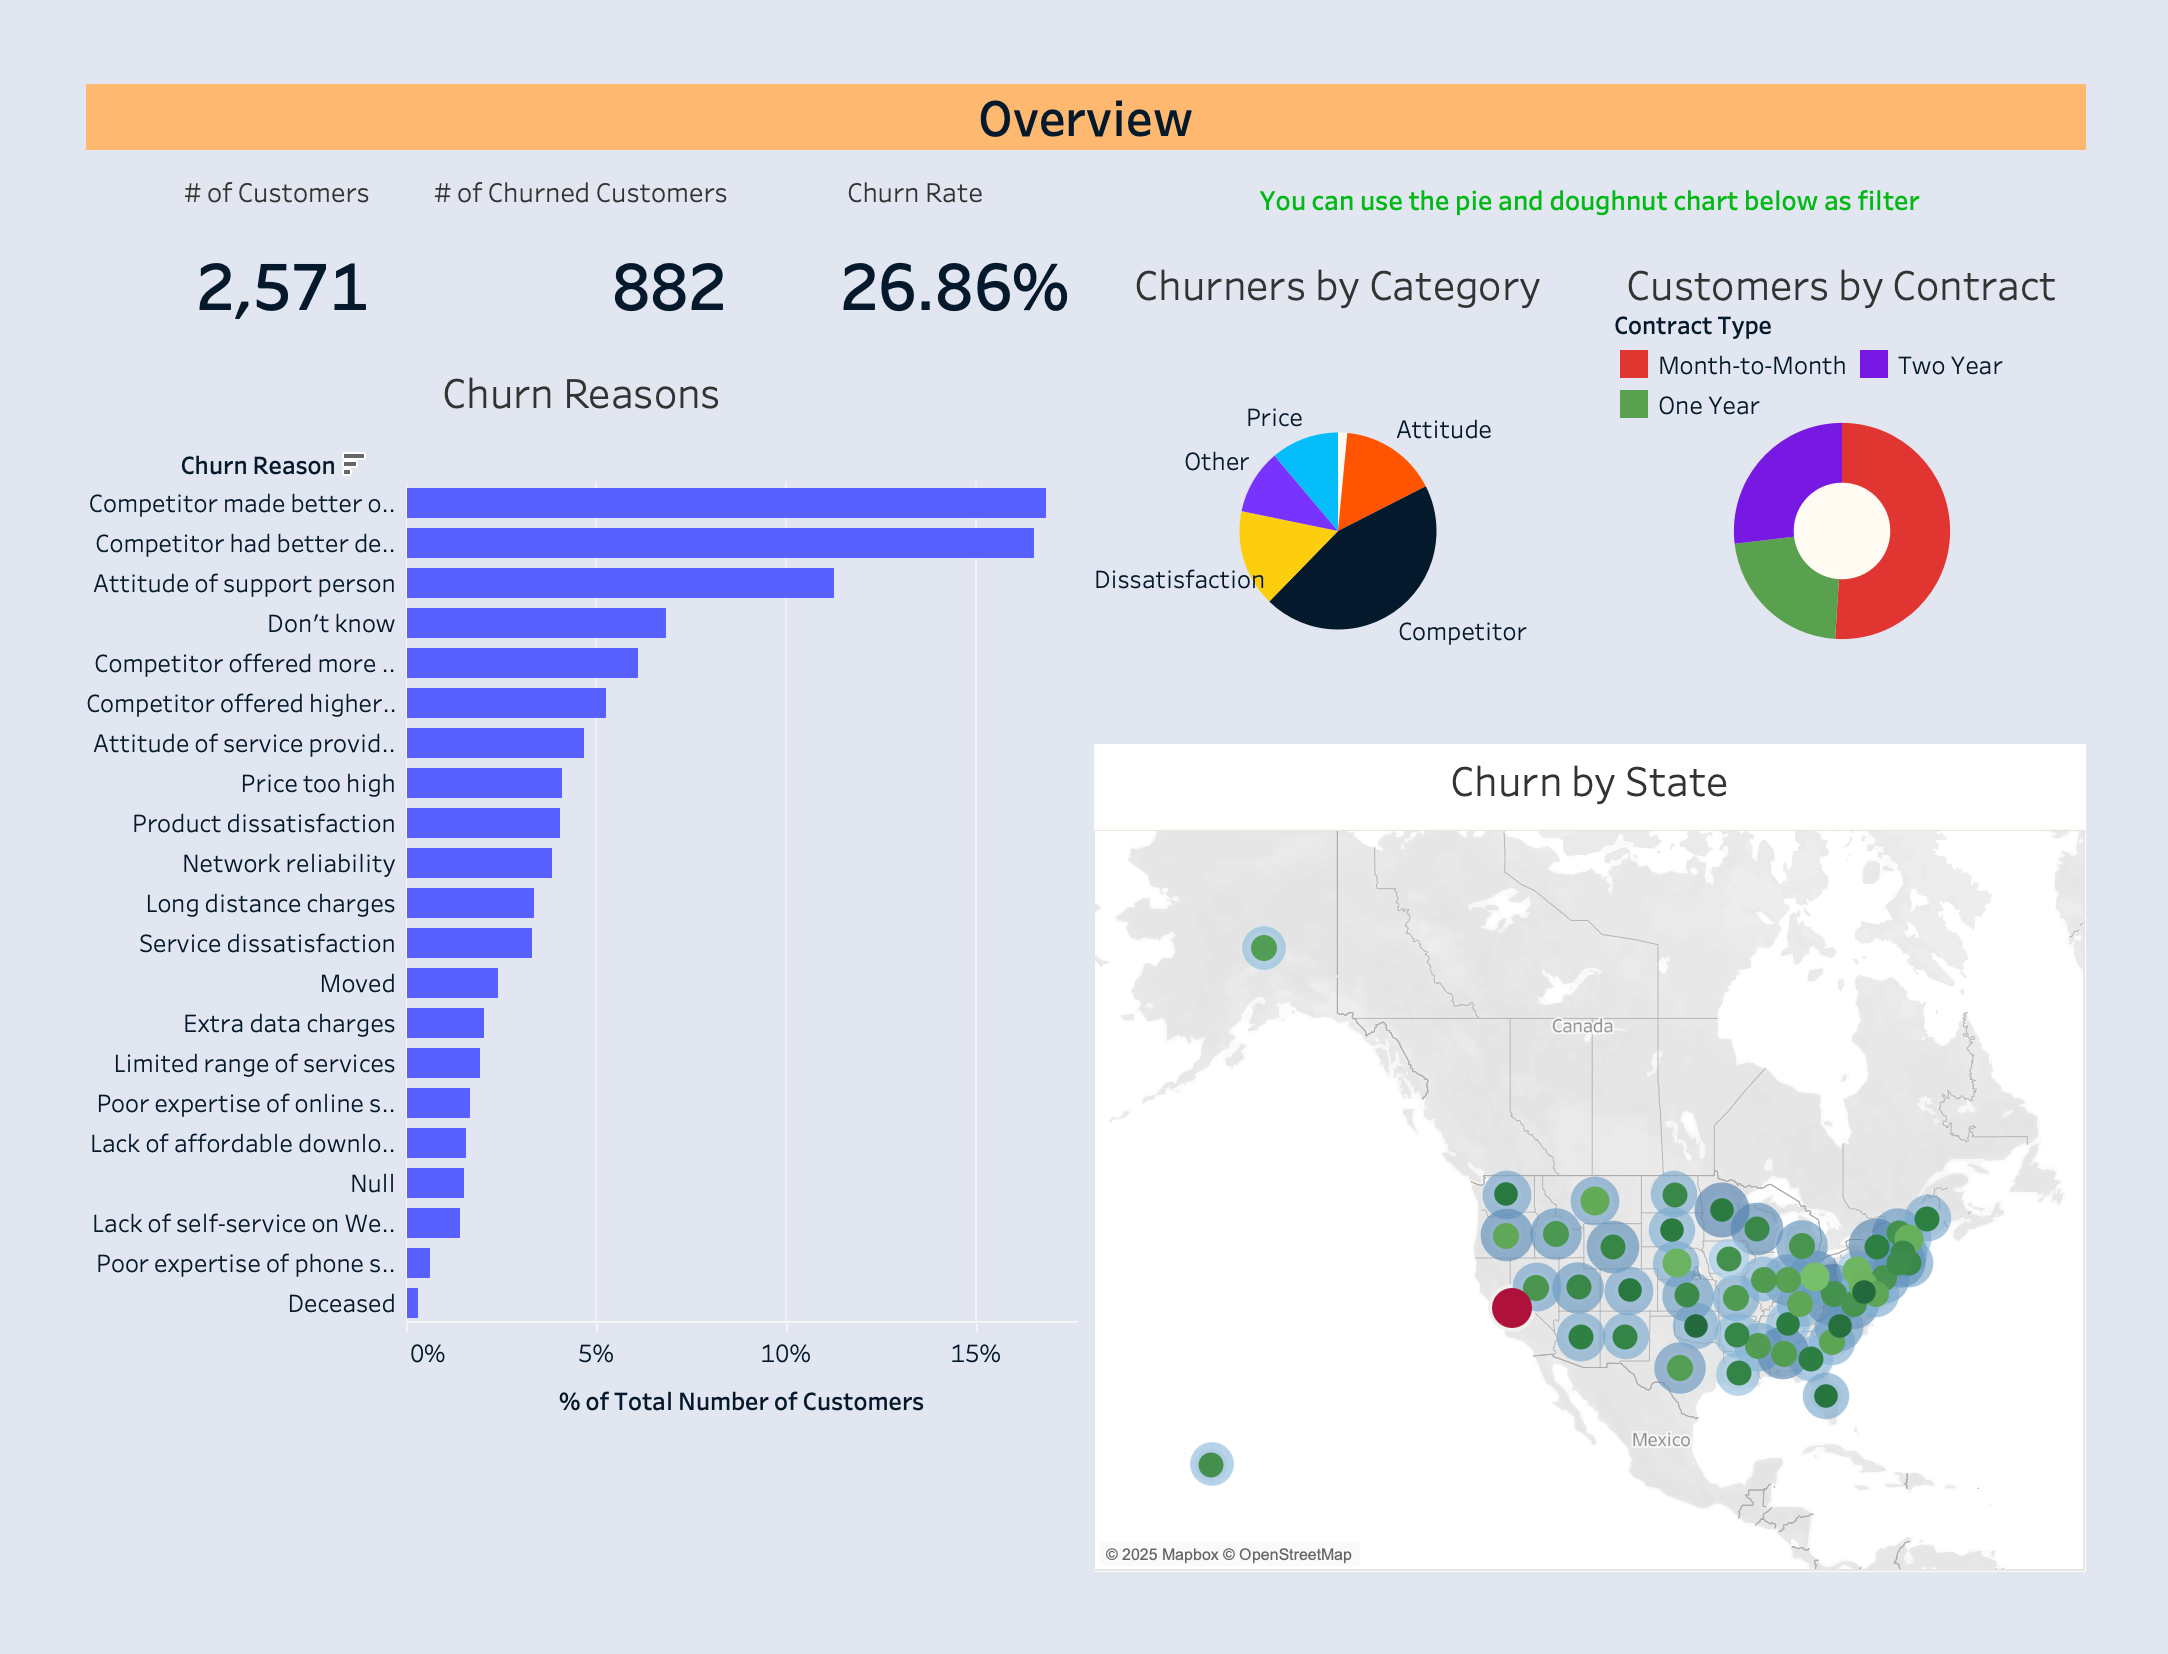

The dashboard page shown, as its layout file describes it:
{"tool":"tableau","page":{"name":"Overview","canvas":[1024,768],"ordinal":2},"visuals":[{"type":"title","box":[8,8,1008,41]},{"type":"worksheet","title":"# of Customers","mark":"Automatic","box":[8,49,153.7,94.9]},{"type":"worksheet","title":"# of Churned Customers","mark":"Automatic","box":[161.6,49,179.2,94.9]},{"type":"worksheet","title":"Churn Rate","mark":"Automatic","box":[340.9,49,171.1,94.9]},{"type":"text","box":[512,49,504,41.1]},{"type":"worksheet","title":"Churners by Category","mark":"Pie","box":[512,90.1,252,248.2]},{"type":"worksheet","title":"Customers by Contract","mark":"Pie","rows":["Calculation_401101859135664128","Calculation_401101859135664128"],"box":[764,90.1,252,248.2]},{"type":"legend","title":"Customers by Contract","param":"[federated.1559pdh1893exj185r2jq1n05w4m].[none:Contract Type:nk]","box":[776.2,123.8,234.5,75.8]},{"type":"worksheet","title":"Churn Reasons","mark":"Automatic","rows":["Churn Reason"],"cols":["Calculation_161848126832214016"],"box":[8,143.9,504,616.1]},{"type":"worksheet","title":"Churn by State","mark":"Automatic","box":[512,338.4,504,421.6]}]}

Visuals, with their boxes in screenshot pixels (x1, y1, x2, y2), scaled from the page's 1024x768 canvas onto the 2168x1654 screenshot:
title: [x1=17, y1=17, x2=2151, y2=106]
"# of Customers" worksheet: [x1=17, y1=106, x2=342, y2=310]
"# of Churned Customers" worksheet: [x1=342, y1=106, x2=722, y2=310]
"Churn Rate" worksheet: [x1=722, y1=106, x2=1084, y2=310]
text: [x1=1084, y1=106, x2=2151, y2=194]
"Churners by Category" worksheet (Pie marks): [x1=1084, y1=194, x2=1618, y2=729]
"Customers by Contract" worksheet (Pie marks): [x1=1618, y1=194, x2=2151, y2=729]
"Customers by Contract" legend: [x1=1643, y1=267, x2=2140, y2=430]
"Churn Reasons" worksheet: [x1=17, y1=310, x2=1084, y2=1637]
"Churn by State" worksheet: [x1=1084, y1=729, x2=2151, y2=1637]
